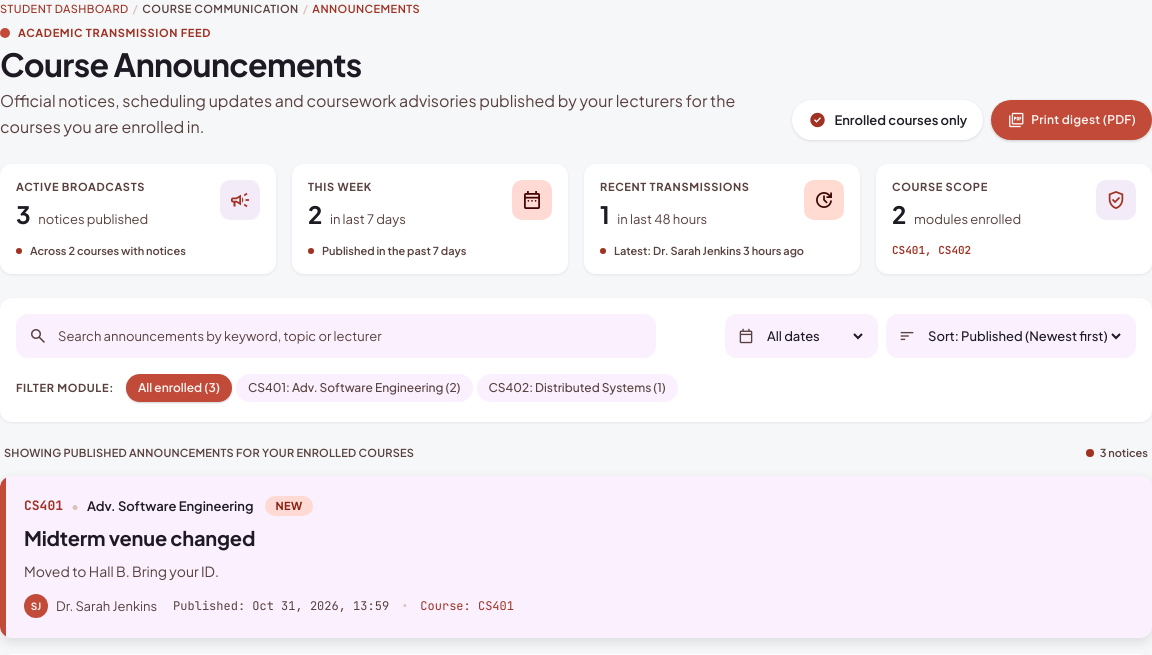
Test: StudentAnnouncements › filters by module, search text and date range
The image size is (1152, 655).
Expected: the button "Midterm venue changed" is shown, left=0, top=476, right=1151, bottom=638
Click the button "CS402: Distributed Systems (1)" at (577, 388), box left=476, top=374, right=678, bottom=402
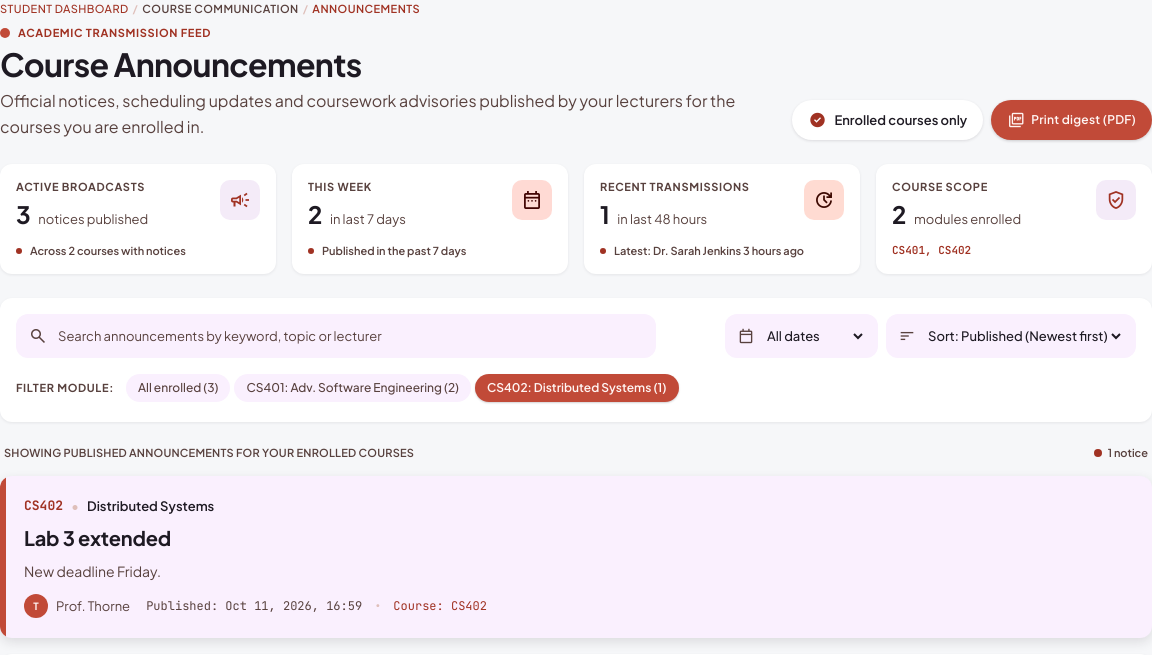
Expected: the button "Lab 3 extended" is shown, left=0, top=476, right=1151, bottom=638
Result: the button "Midterm venue changed" is gone
Click the button "All enrolled (3)" at (178, 388), box left=126, top=374, right=230, bottom=402
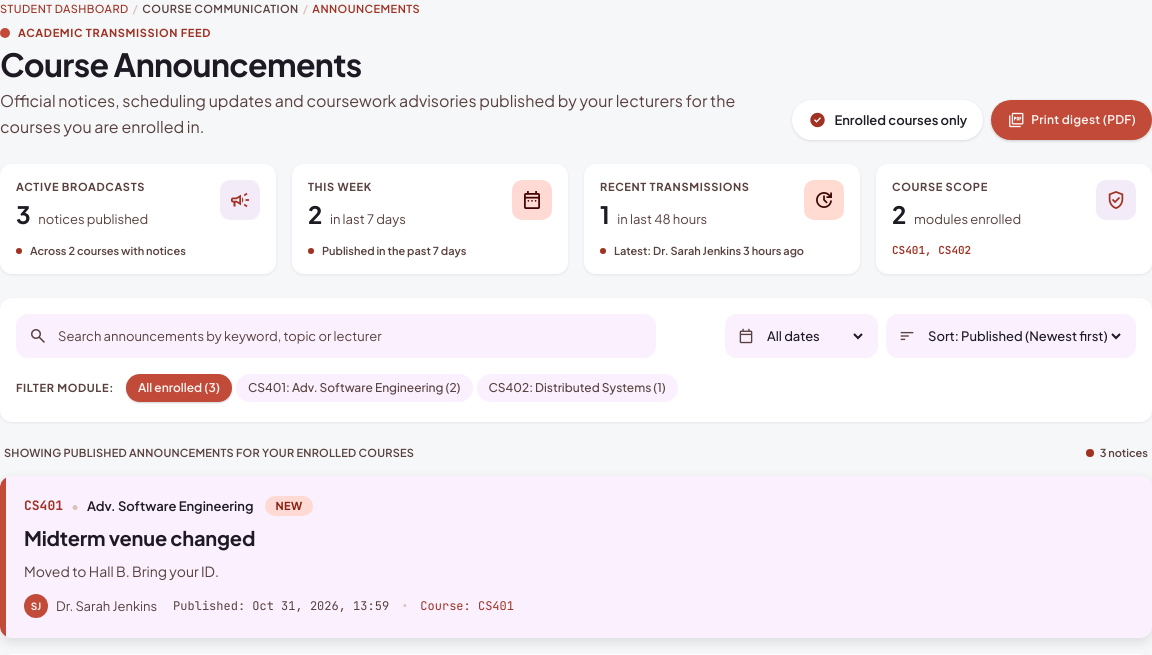
Type "chapters" into the search field labelled "Search announcements" at (350, 336), box left=56, top=327, right=644, bottom=345
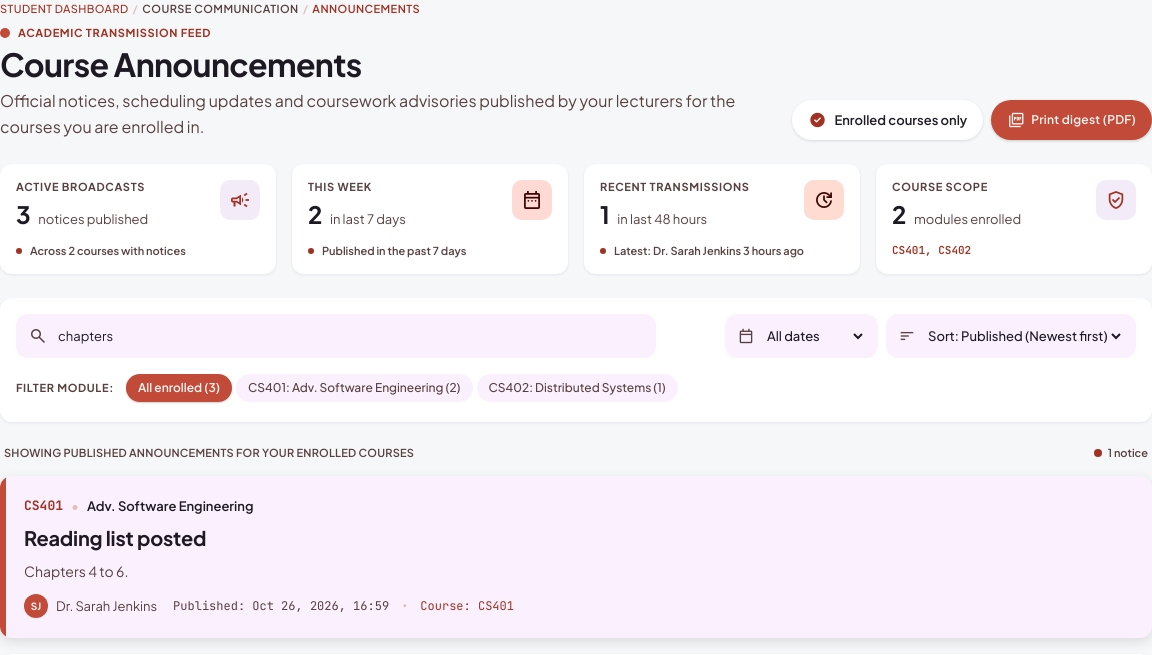
Result: the button "Reading list posted" is shown at left=0, top=476, right=1151, bottom=638
Clear the search field named "Search announcements" at (350, 336), box left=56, top=327, right=644, bottom=345
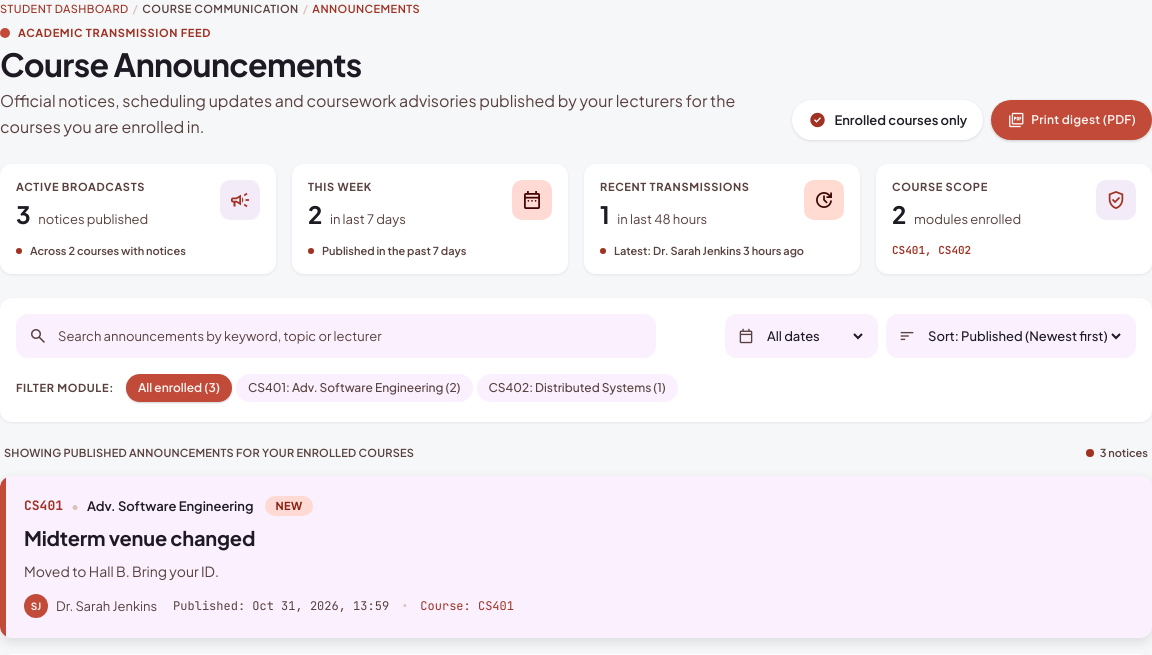
Select "Last 7 days" in the dropdown named "Date range" at (814, 336), box left=763, top=314, right=866, bottom=358
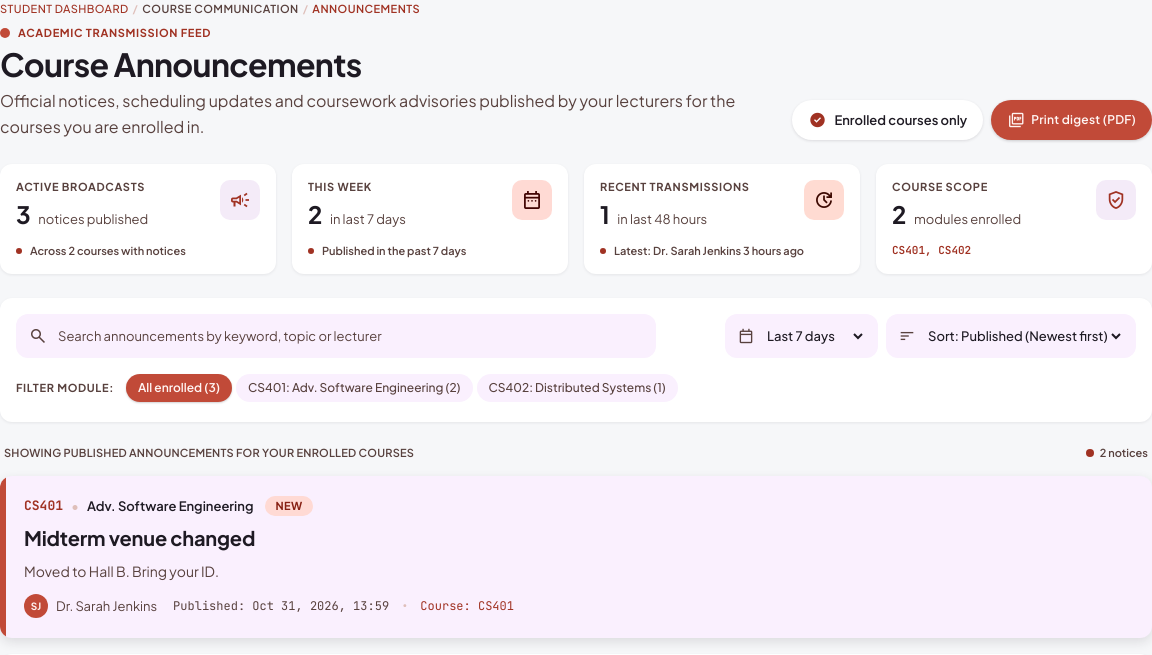
Expected: the list "Lab 3 extended" is not shown
Type "zzzz" into the search field labelled "Search announcements" at (350, 336), box left=56, top=327, right=644, bottom=345
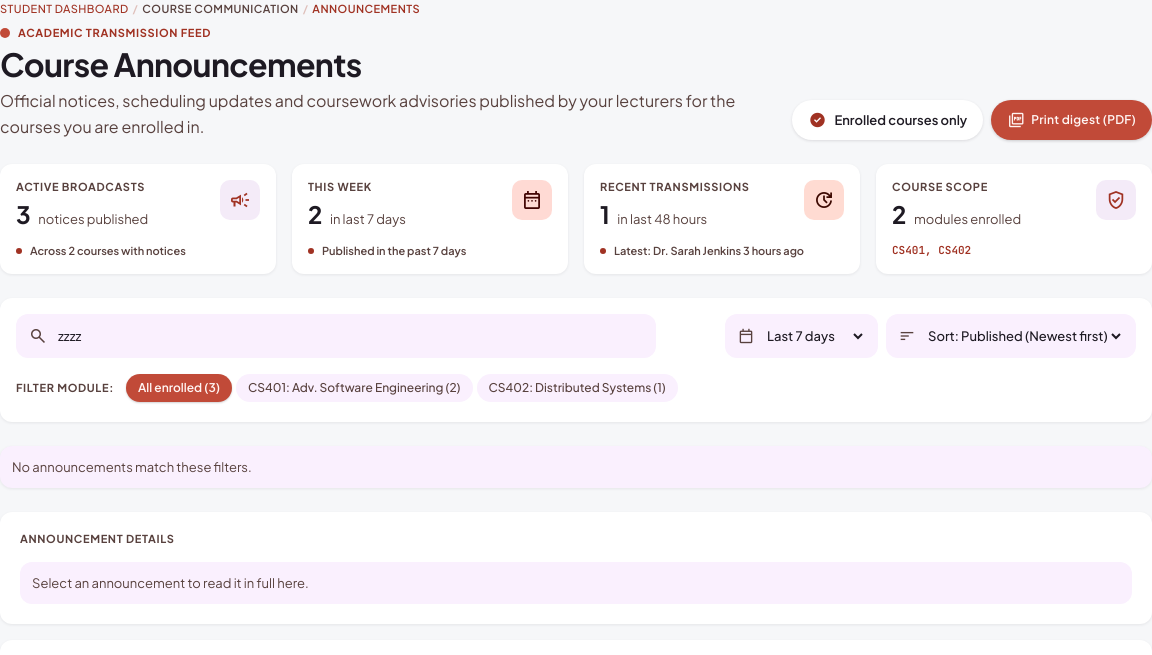
Result: the text "No announcements match these filters." is shown at left=0, top=446, right=1151, bottom=488
